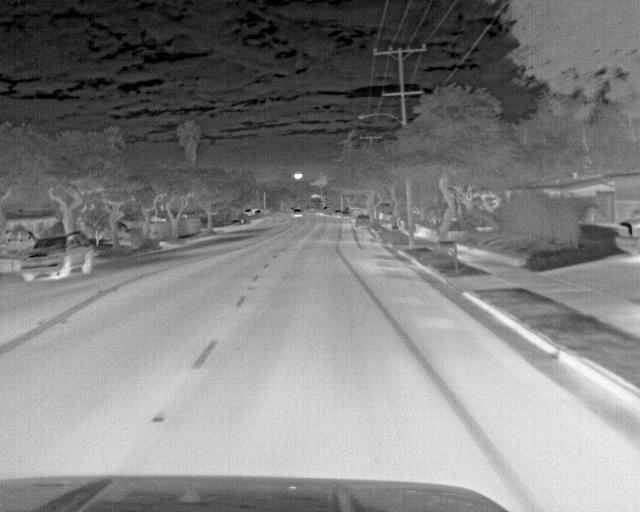car: (18, 232, 97, 283), (613, 214, 639, 258), (353, 211, 372, 230), (290, 206, 305, 219), (337, 209, 350, 221), (332, 207, 344, 219)
